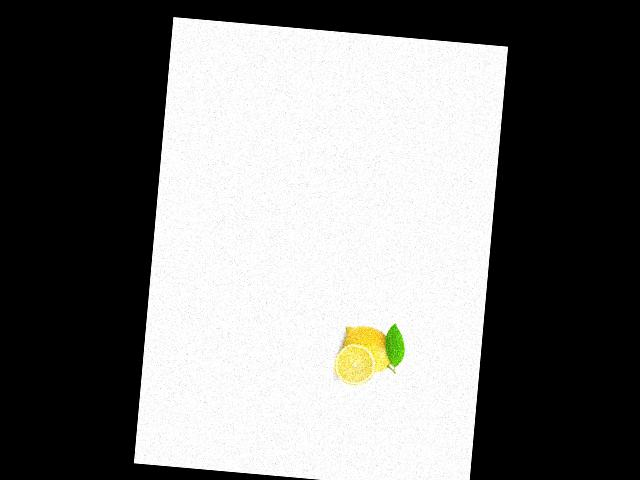lemon: (336, 318, 401, 377)
